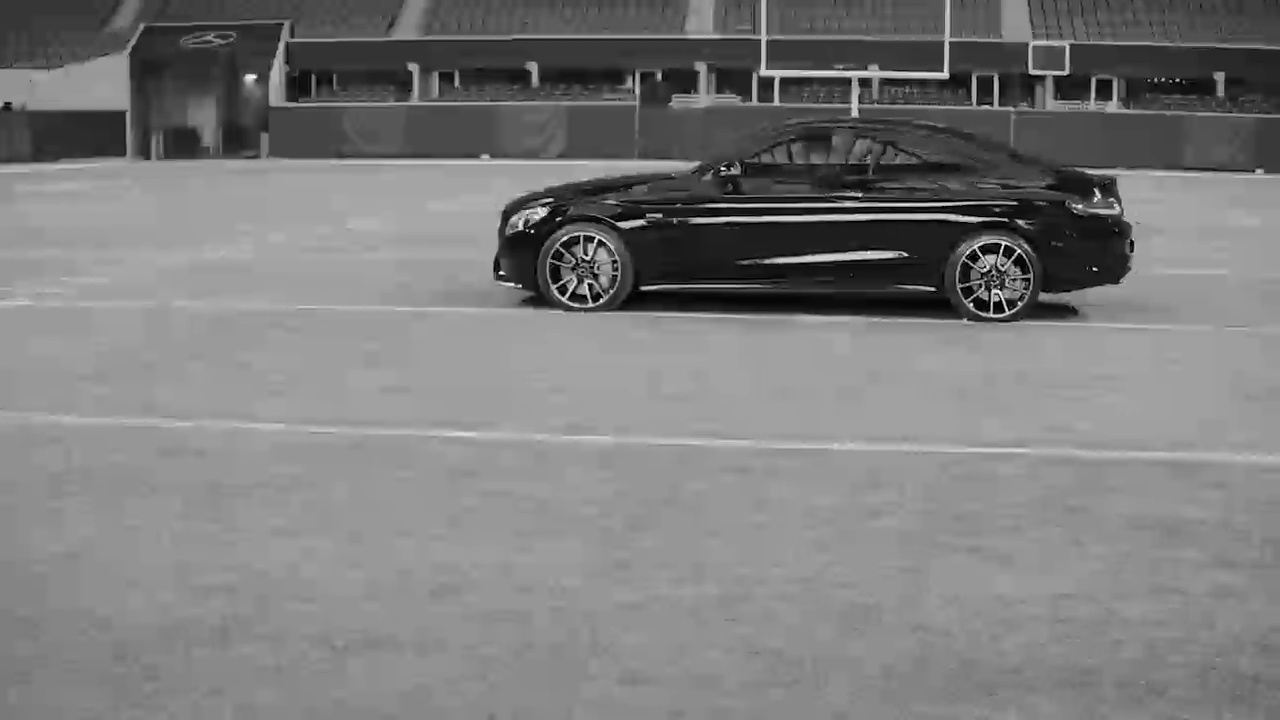car: (489, 115, 1139, 329)
